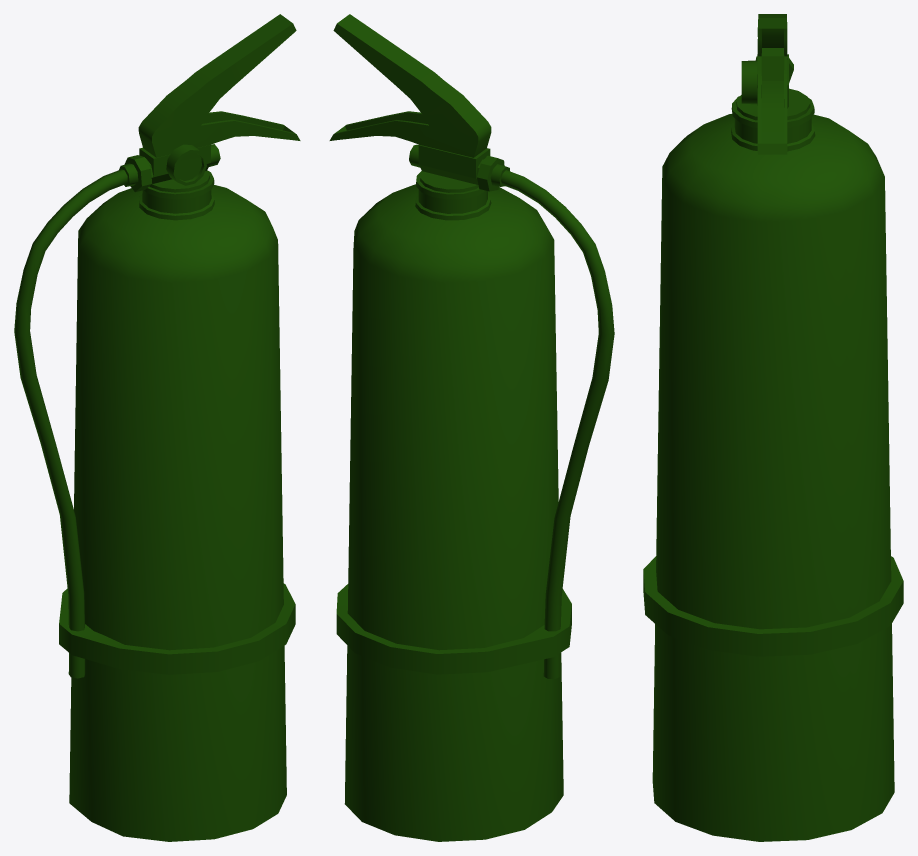
Rendered from Extinguisher.fbx.
3 renders of one model, left to right at view 1: azimuth 30°, elevation 25°; view 2: azimuth 150°, elevation 25°; view 3: azimuth 270°, elevation 25°, orthographic. The views are drawn at different scales.
Parts seen in each view (by area): view 1: Extinguisher; view 2: Extinguisher; view 3: Extinguisher.
Part boxes in pixels (x1=…): Extinguisher: x1=14, y1=14, x2=300, y2=841; Extinguisher: x1=329, y1=14, x2=614, y2=841; Extinguisher: x1=643, y1=14, x2=903, y2=841.
Bounding box in the file's own units: 0.1093 × 0.2817 × 0.0798.
